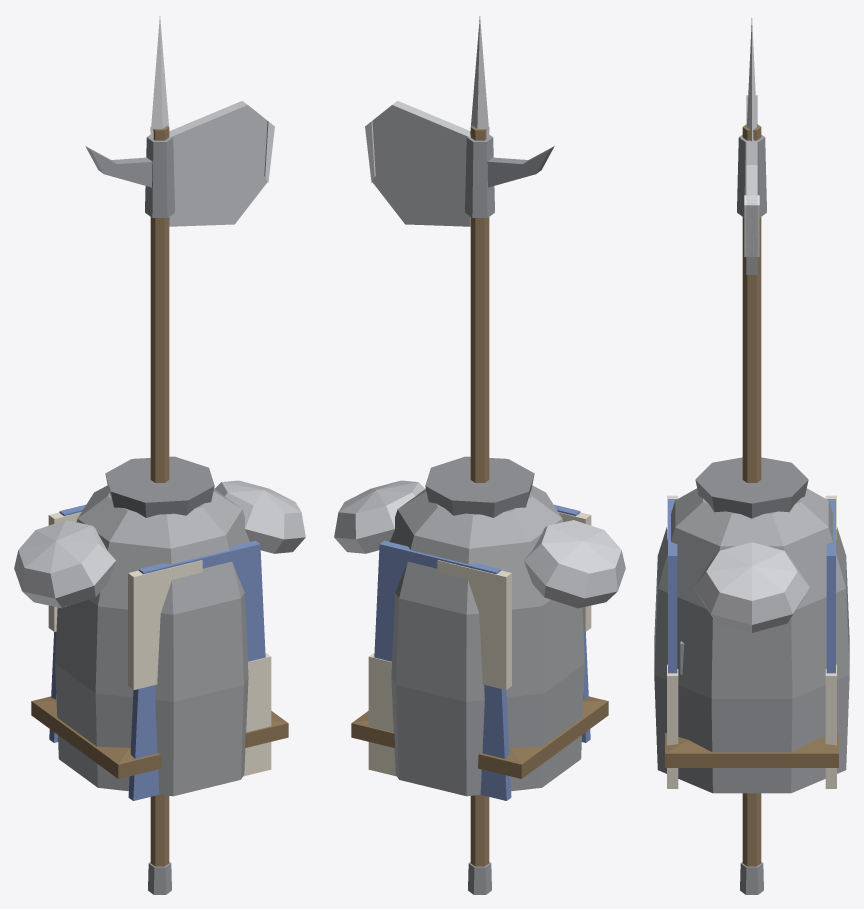
Rendered from halberdier.glb.
The picture shows the model from 3 angles, left to right: view 1: azimuth 30°, elevation 25°; view 2: azimuth 150°, elevation 25°; view 3: azimuth 270°, elevation 25°; orthographic projection.
Visible parts, largest first — view 1: Torso, Weapon, PauldronL, PauldronR; view 2: Torso, Weapon, PauldronL, PauldronR; view 3: Torso, Weapon, PauldronR.
Part boxes in pixels (x1=…): Torso: x1=31, y1=456, x2=288, y2=800; Weapon: x1=85, y1=16, x2=274, y2=894; PauldronL: x1=14, y1=520, x2=115, y2=608; PauldronR: x1=214, y1=480, x2=305, y2=553; Torso: x1=351, y1=456, x2=608, y2=800; Weapon: x1=365, y1=16, x2=554, y2=894; PauldronL: x1=524, y1=520, x2=625, y2=608; PauldronR: x1=334, y1=480, x2=425, y2=553; Torso: x1=654, y1=457, x2=849, y2=793; Weapon: x1=737, y1=18, x2=766, y2=894; PauldronR: x1=694, y1=542, x2=809, y2=632.
Bounding box in the file's own units: 0.843 × 2.56 × 0.5174.
